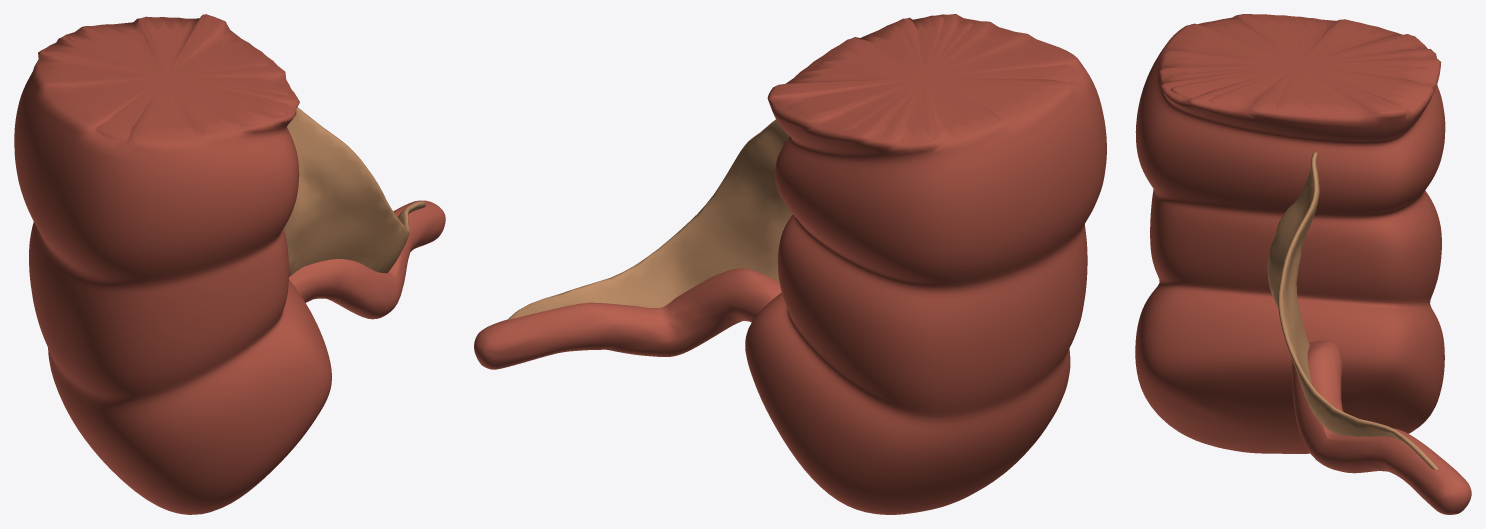
The model's file is cecum_appendix.glb.
3 renders of one model, left to right at view 1: azimuth 30°, elevation 25°; view 2: azimuth 150°, elevation 25°; view 3: azimuth 270°, elevation 25°, orthographic. The views are drawn at different scales.
Parts seen in each view (by area): view 1: Organ_Cecum, Organ_Mesoappendix, Organ_Appendix; view 2: Organ_Cecum, Organ_Mesoappendix, Organ_Appendix; view 3: Organ_Cecum, Organ_Appendix, Organ_Mesoappendix.
Part boxes in pixels (x1=…): Organ_Cecum: x1=14, y1=14, x2=331, y2=514; Organ_Mesoappendix: x1=284, y1=107, x2=425, y2=276; Organ_Appendix: x1=289, y1=200, x2=445, y2=319; Organ_Cecum: x1=745, y1=14, x2=1106, y2=514; Organ_Mesoappendix: x1=507, y1=119, x2=792, y2=319; Organ_Appendix: x1=474, y1=268, x2=781, y2=369; Organ_Cecum: x1=1135, y1=14, x2=1445, y2=453; Organ_Appendix: x1=1291, y1=340, x2=1471, y2=514; Organ_Mesoappendix: x1=1267, y1=151, x2=1438, y2=470.
Size of the model in its own units: 0.3983 by 0.318 by 0.2486.
